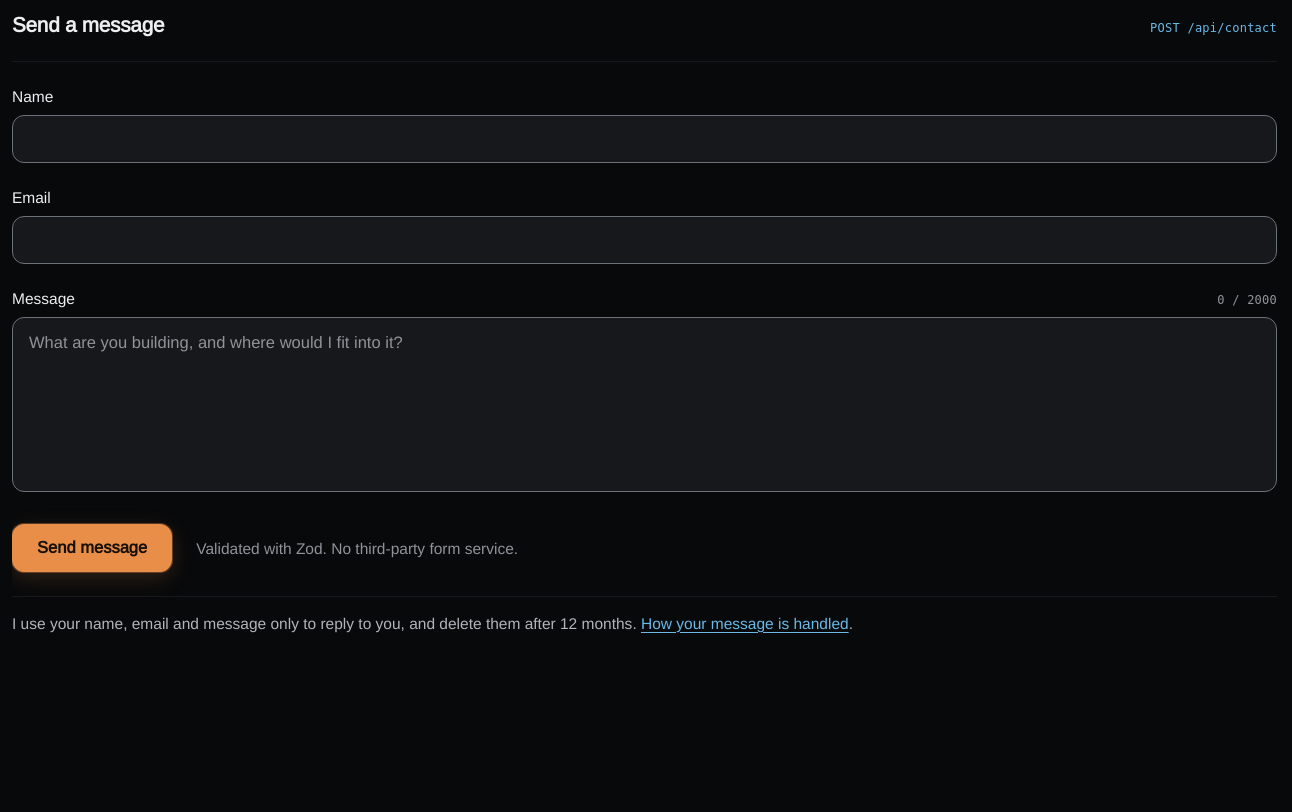
it: ContactForm › blocks submission and explains why when fields are invalid
Step 1. Click the button named "send message" → (92,548), box [12,524,172,572]
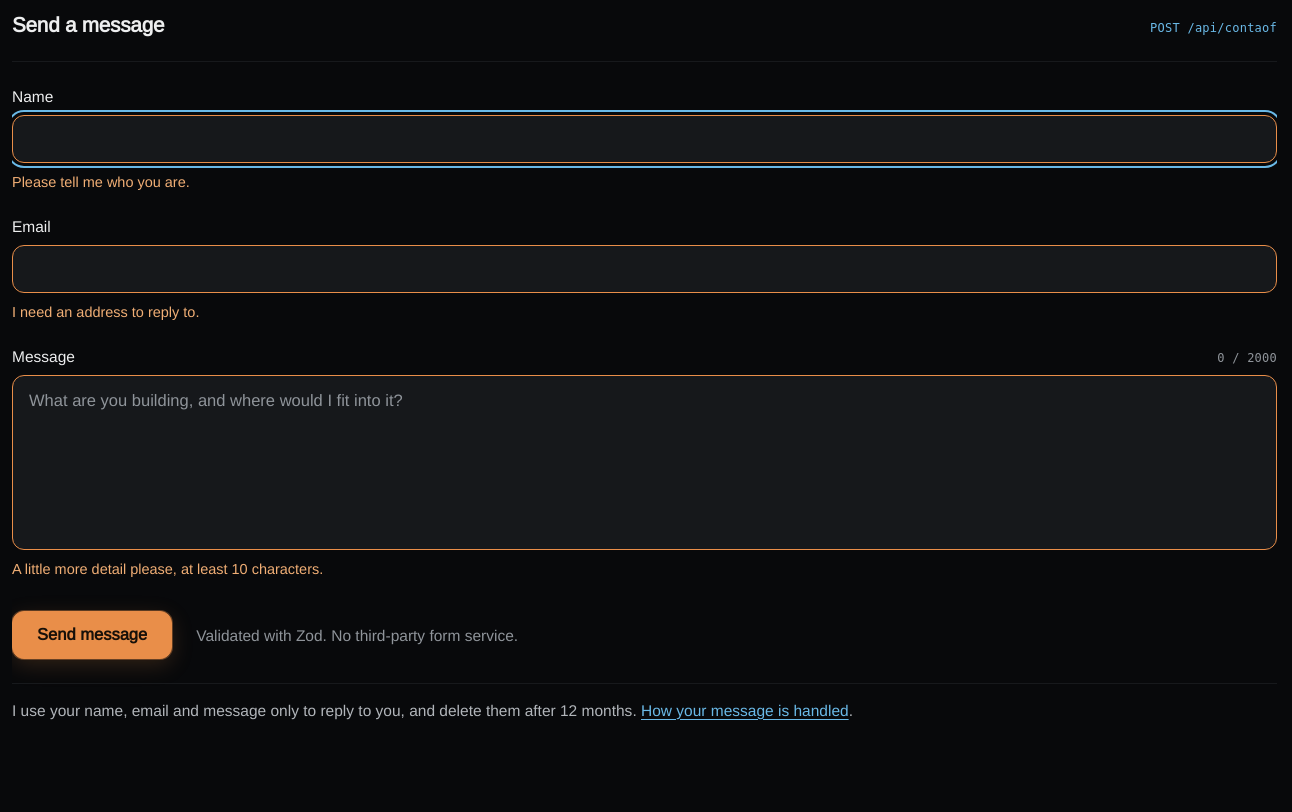
Result: the text "Please tell me who you are." is shown at [12,172,190,191]
Result: the text "I need an address to reply to." is shown at [12,302,199,321]
Result: the text "A little more detail please, at least 10 characters." is shown at [12,559,323,578]
